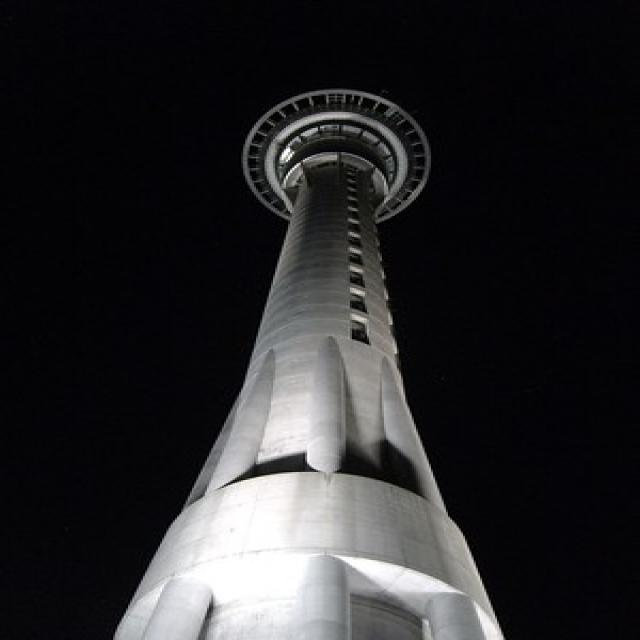Normal_building: (106, 80, 520, 640)
